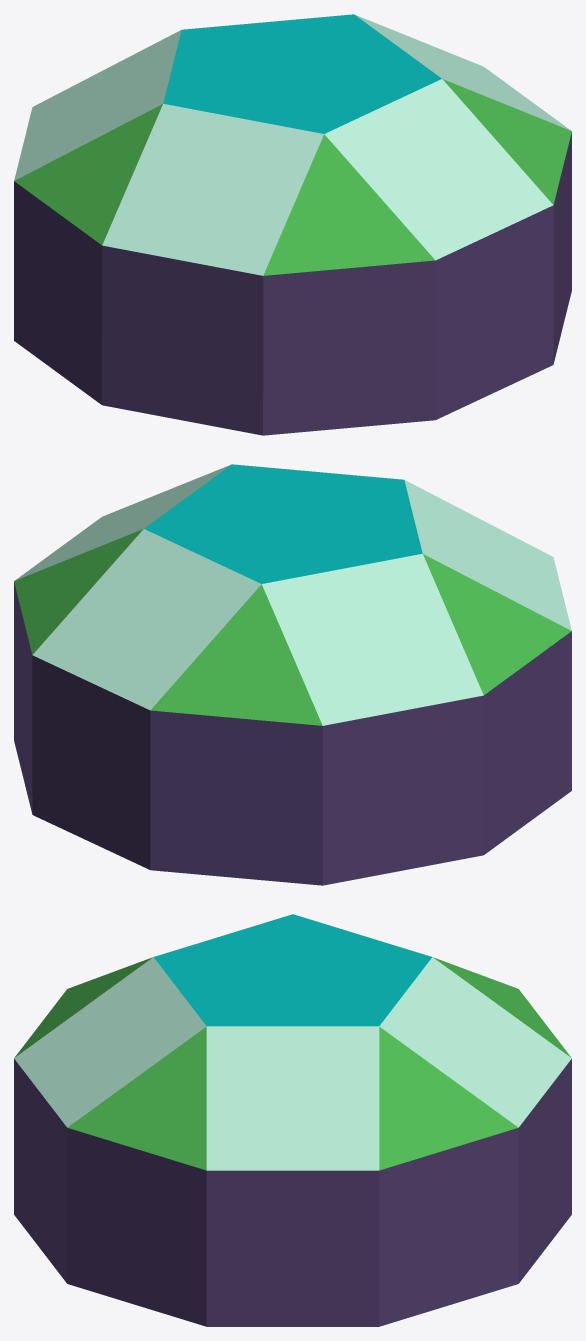
The model's file is J20.CupulaPentagonalElongada.gltf.
3 renders of one model, top to bottom at view 1: azimuth 30°, elevation 25°; view 2: azimuth 150°, elevation 25°; view 3: azimuth 270°, elevation 25°, orthographic. The views are drawn at different scales.
Visible parts, largest first — view 1: J20.CupulaPentagonalElongada; view 2: J20.CupulaPentagonalElongada; view 3: J20.CupulaPentagonalElongada.
Part boxes in pixels (x1,y1,x2,y2): J20.CupulaPentagonalElongada: (14,14,571,435); J20.CupulaPentagonalElongada: (14,464,571,885); J20.CupulaPentagonalElongada: (14,914,571,1326).
Bounding box in the file's own units: 18.18 × 9.02 × 19.11.
